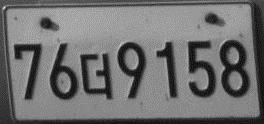1: (151, 40, 182, 98)
5: (186, 39, 216, 98)
6: (47, 40, 78, 101)
7: (12, 42, 43, 100)
8: (218, 38, 250, 99)
9: (116, 40, 147, 99)
더: (79, 52, 113, 101)
